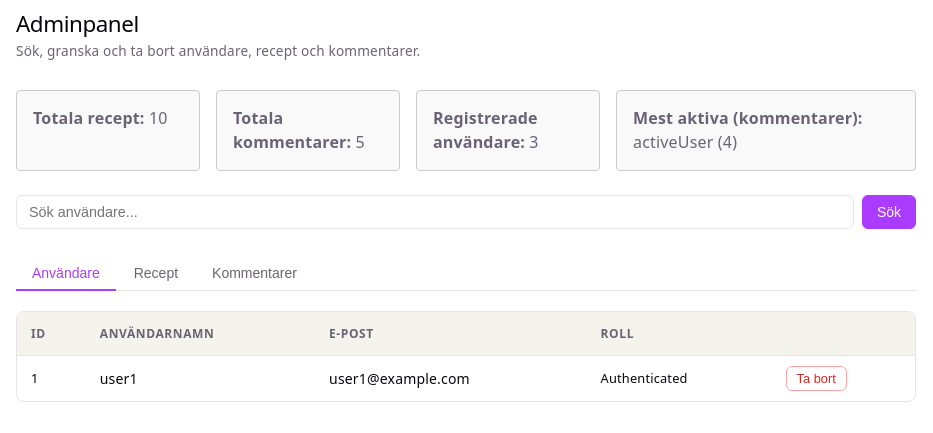
Test: AdminPage Component › handles delete action for a user
Expected: the text "user1" is shown, [86, 356, 315, 401]
Click the button with aria-label "Ta bort Använda 1".
click(816, 378)  # box [786, 366, 847, 391]
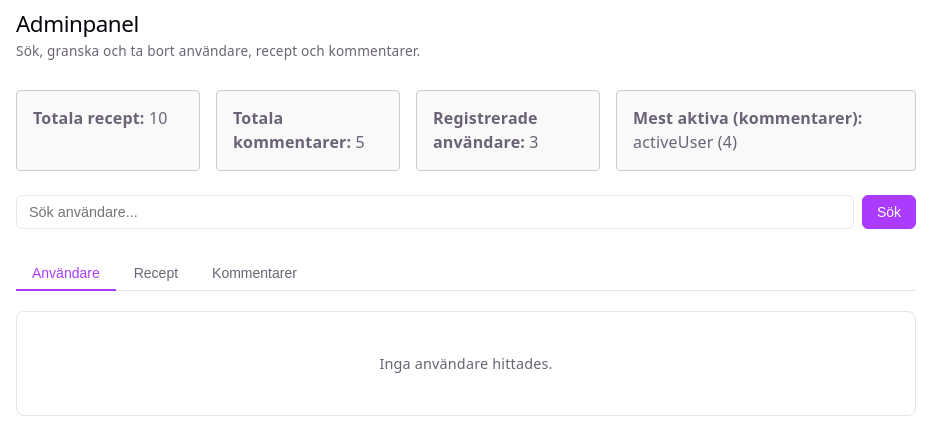
Now the text "user1" is gone
